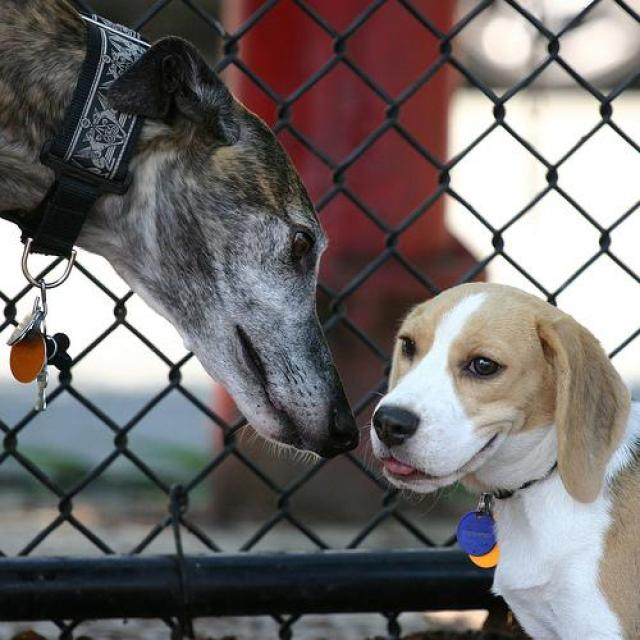beagle: (368, 272, 638, 638)
